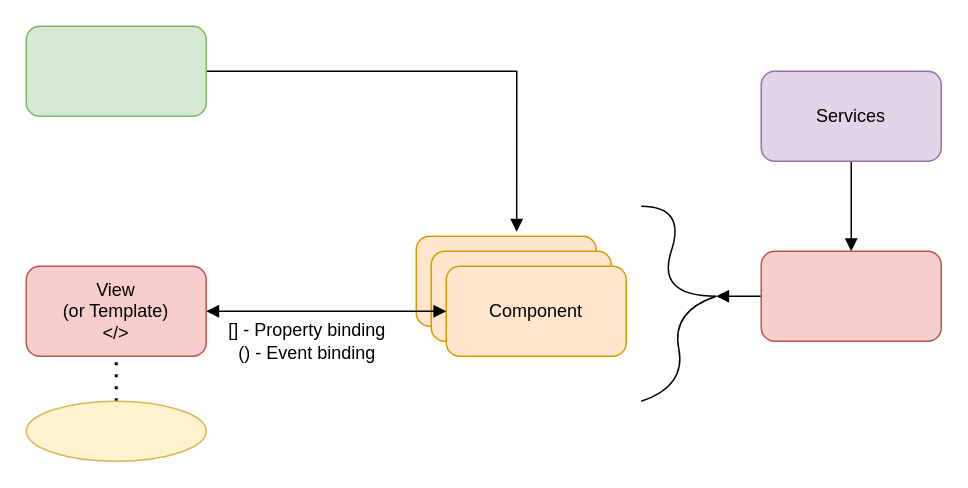
Image size: 968x488. Some labels were removed from this diagram. Here are the shapes that lost their labels. From the top down, the centre of each, then its label:
At pixel 115 70: "Modules".
At pixel 850 295: "Dependency injection".
At pixel 115 430: "Directives".
